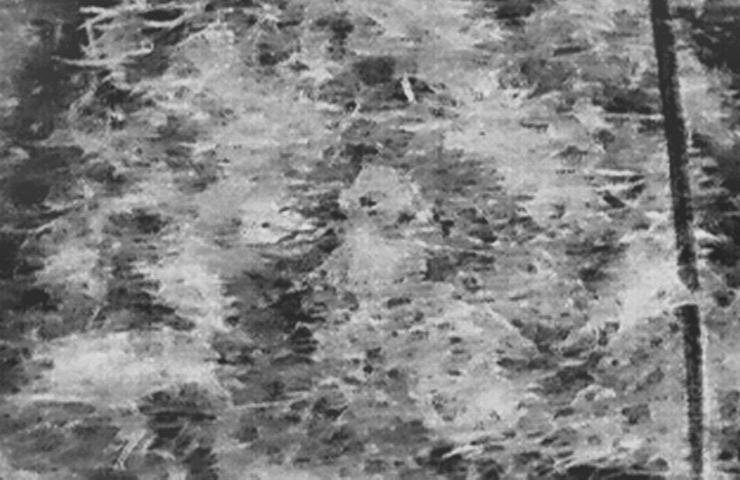landmines: (236, 193, 306, 250)
